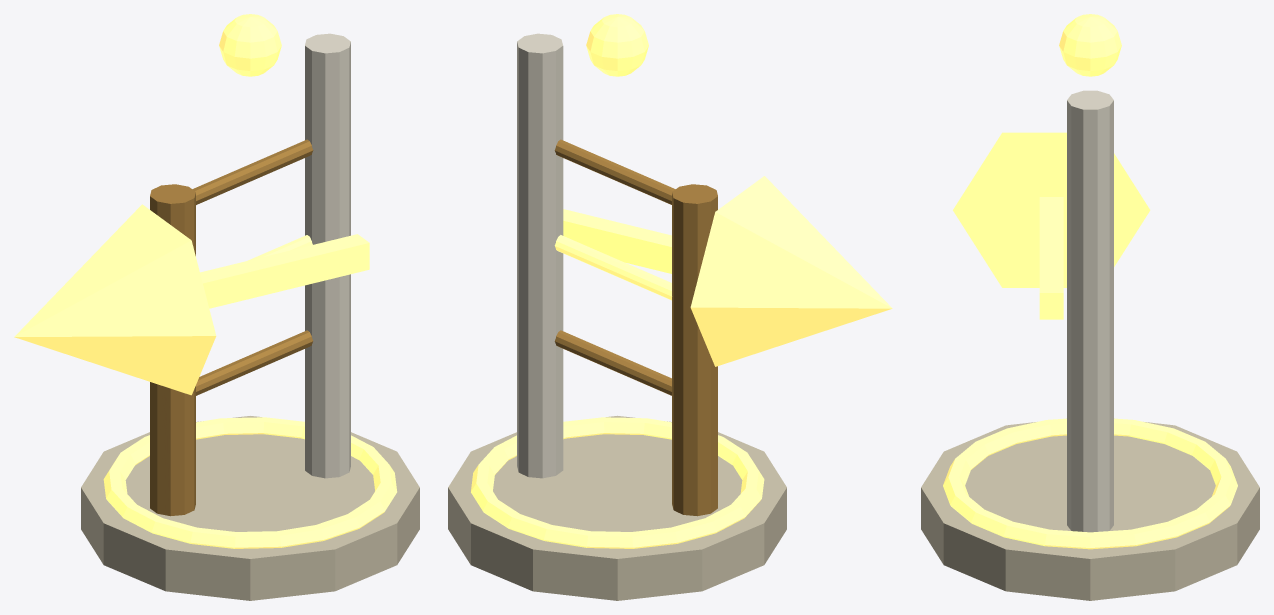
Rendered from runtime.glb.
The picture shows the model from 3 angles, left to right: view 1: azimuth 30°, elevation 25°; view 2: azimuth 150°, elevation 25°; view 3: azimuth 270°, elevation 25°; orthographic projection.
Parts seen in each view (by area): view 1: aetherion-orbit-beacon-v02_base_nocol, aetherion-orbit-beacon-v02_direction_head_nocol, aetherion-orbit-beacon-v02_right_mast_nocol, aetherion-orbit-beacon-v02_base_orbit_nocol, aetherion-orbit-beacon-v02_left_mast_nocol, aetherion-orbit-beacon-v02_direction_bar_nocol, aetherion-orbit-beacon-v02_zenith_nocol, aetherion-orbit-beacon-v02_rung_2_nocol, aetherion-orbit-beacon-v02_rung_0_nocol; view 2: aetherion-orbit-beacon-v02_base_nocol, aetherion-orbit-beacon-v02_direction_head_nocol, aetherion-orbit-beacon-v02_right_mast_nocol, aetherion-orbit-beacon-v02_left_mast_nocol, aetherion-orbit-beacon-v02_base_orbit_nocol, aetherion-orbit-beacon-v02_direction_bar_nocol, aetherion-orbit-beacon-v02_zenith_nocol, aetherion-orbit-beacon-v02_rung_2_nocol, aetherion-orbit-beacon-v02_rung_0_nocol, aetherion-orbit-beacon-v02_rung_1_nocol; view 3: aetherion-orbit-beacon-v02_base_nocol, aetherion-orbit-beacon-v02_right_mast_nocol, aetherion-orbit-beacon-v02_direction_head_nocol, aetherion-orbit-beacon-v02_base_orbit_nocol, aetherion-orbit-beacon-v02_direction_bar_nocol, aetherion-orbit-beacon-v02_zenith_nocol.
Boxes of the visible parts, left/top/right/bottom form: aetherion-orbit-beacon-v02_base_nocol: left=81, top=416, right=419, bottom=600; aetherion-orbit-beacon-v02_direction_head_nocol: left=14, top=204, right=216, bottom=395; aetherion-orbit-beacon-v02_right_mast_nocol: left=305, top=33, right=350, bottom=478; aetherion-orbit-beacon-v02_base_orbit_nocol: left=103, top=417, right=397, bottom=548; aetherion-orbit-beacon-v02_left_mast_nocol: left=150, top=184, right=195, bottom=516; aetherion-orbit-beacon-v02_direction_bar_nocol: left=200, top=234, right=369, bottom=308; aetherion-orbit-beacon-v02_zenith_nocol: left=219, top=14, right=281, bottom=76; aetherion-orbit-beacon-v02_rung_2_nocol: left=192, top=139, right=313, bottom=204; aetherion-orbit-beacon-v02_rung_0_nocol: left=196, top=330, right=313, bottom=395; aetherion-orbit-beacon-v02_base_nocol: left=448, top=415, right=786, bottom=600; aetherion-orbit-beacon-v02_direction_head_nocol: left=690, top=176, right=892, bottom=366; aetherion-orbit-beacon-v02_right_mast_nocol: left=517, top=33, right=563, bottom=478; aetherion-orbit-beacon-v02_left_mast_nocol: left=672, top=184, right=717, bottom=516; aetherion-orbit-beacon-v02_base_orbit_nocol: left=471, top=417, right=764, bottom=548; aetherion-orbit-beacon-v02_direction_bar_nocol: left=563, top=209, right=671, bottom=273; aetherion-orbit-beacon-v02_zenith_nocol: left=586, top=14, right=648, bottom=76; aetherion-orbit-beacon-v02_rung_2_nocol: left=554, top=139, right=675, bottom=204; aetherion-orbit-beacon-v02_rung_0_nocol: left=554, top=330, right=671, bottom=395; aetherion-orbit-beacon-v02_rung_1_nocol: left=554, top=235, right=671, bottom=300; aetherion-orbit-beacon-v02_base_nocol: left=921, top=422, right=1259, bottom=600; aetherion-orbit-beacon-v02_right_mast_nocol: left=1067, top=90, right=1113, bottom=532; aetherion-orbit-beacon-v02_direction_head_nocol: left=953, top=132, right=1150, bottom=287; aetherion-orbit-beacon-v02_base_orbit_nocol: left=943, top=418, right=1237, bottom=549; aetherion-orbit-beacon-v02_direction_bar_nocol: left=1039, top=197, right=1063, bottom=319; aetherion-orbit-beacon-v02_zenith_nocol: left=1059, top=14, right=1121, bottom=76.
Bounding box in the file's own units: 5.02 × 6.11 × 3.66.
